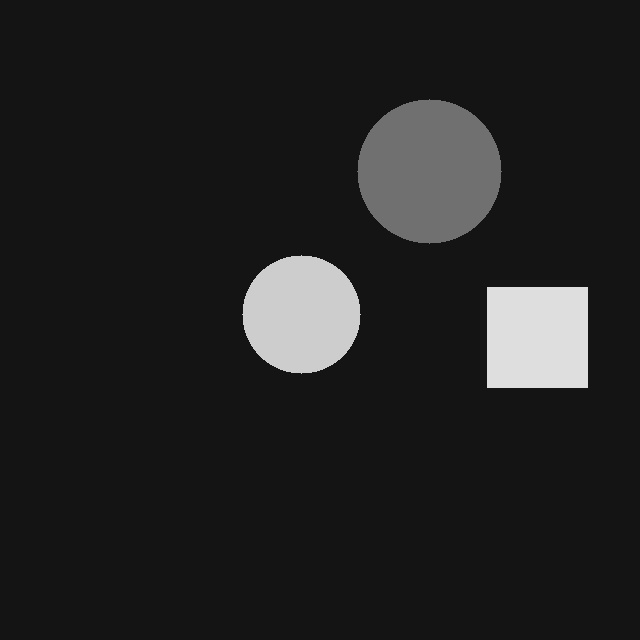circle: (357, 99, 501, 243), (242, 255, 360, 373)
square: (487, 287, 587, 387)
